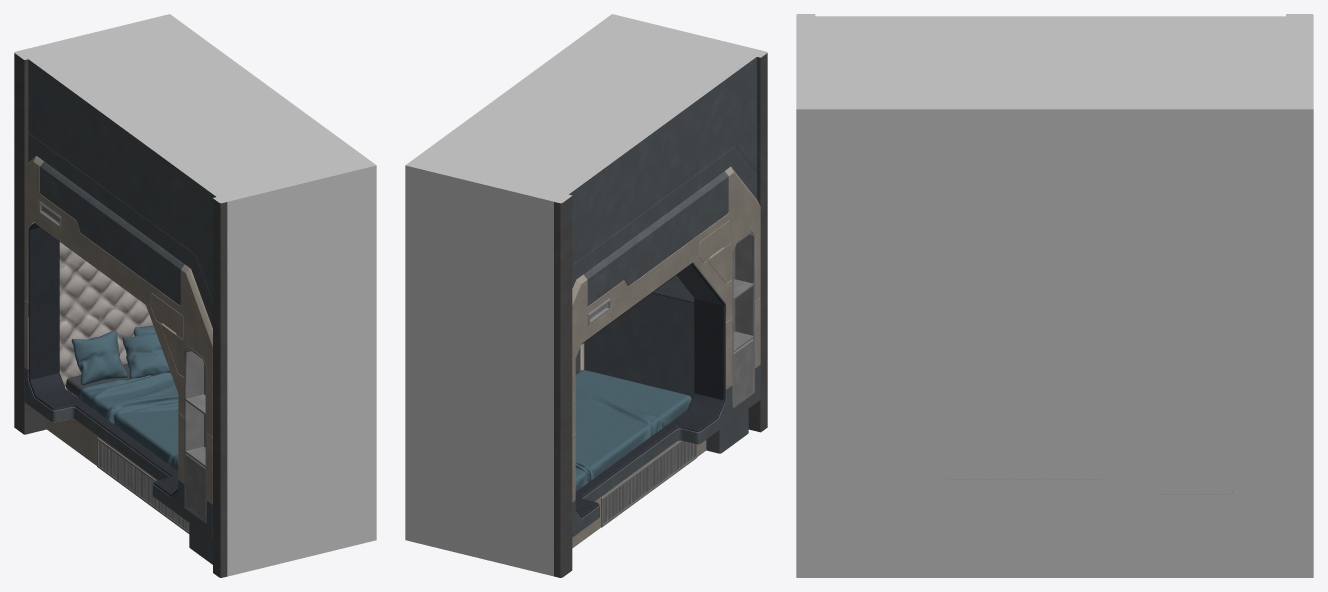
Rendered from SM_RoomStyle_Bed.fbx.
3 views of the same model, side by side, from view 1: azimuth 30°, elevation 25°; view 2: azimuth 150°, elevation 25°; view 3: azimuth 270°, elevation 25° (orthographic). The views are drawn at different scales.
Visible parts, largest first — view 1: SM_RoomStyle_Bed_LOD0; view 2: SM_RoomStyle_Bed_LOD0; view 3: SM_RoomStyle_Bed_LOD0.
Boxes of the visible parts, bbox=[...] form: SM_RoomStyle_Bed_LOD0: bbox=[14, 14, 376, 577]; SM_RoomStyle_Bed_LOD0: bbox=[405, 14, 767, 577]; SM_RoomStyle_Bed_LOD0: bbox=[796, 14, 1313, 577].
Bounding box in the file's own units: 132 × 300 × 300.
3 materials, 1 textured.
